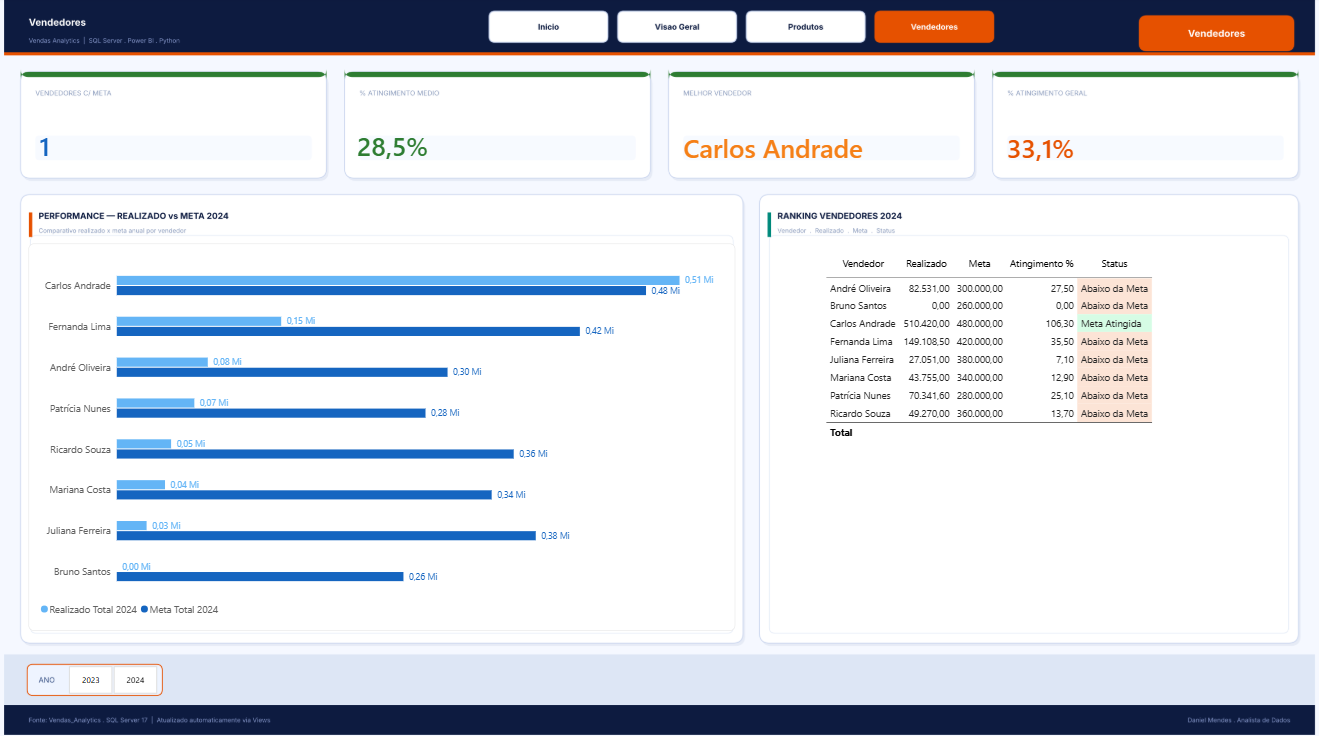

Layout of this report page (visuals, bound fields, positions):
{"tool":"powerbi","page":{"name":"Vendedores","canvas":[1920,1080],"ordinal":3},"visuals":[{"type":"actionButton","box":[714.9,22,169.4,41.8],"z":0},{"type":"actionButton","box":[899.7,22,169.4,41.8],"z":1000},{"type":"actionButton","box":[1084.5,22,169.4,41.8],"z":2000},{"type":"cardVisual","fields":{"Data":["_Medidas.Vendedores Meta Atingida"]},"box":[47.1,175.6,413.2,83.5],"z":3000},{"type":"cardVisual","fields":{"Data":["_Medidas.% Atingimento Médio"]},"box":[507.4,175.6,413.2,83.5],"z":4000},{"type":"cardVisual","fields":{"Data":["_Medidas.Melhor Vendedor"]},"box":[978.4,177.7,413.2,83.5],"z":5000},{"type":"cardVisual","fields":{"Data":["_Medidas.% Atingimento Geral"]},"box":[1447.3,177.7,413.2,83.5],"z":6000},{"type":"clusteredBarChart","fields":{"Category":["vw_performance_vendedores.nome"],"Y":["_Medidas.Realizado Total 2024","_Medidas.Meta Total 2024"]},"box":[46.2,358.6,1022.9,561],"z":7000},{"type":"tableEx","fields":{"Values":["vw_performance_vendedores.nome","vw_performance_vendedores.receita_realizada","vw_performance_vendedores.meta_anual","vw_performance_vendedores.atingimento_meta_pct","vw_performance_vendedores.status_meta"]},"box":[1185.7,358.6,613.8,561],"z":8000},{"type":"slicer","fields":{"Values":["vw_performance_vendedores.ano"]},"box":[85.8,967.9,167.2,44],"z":9000}]}

Visuals, with their boxes in screenshot pixels (x1, y1, x2, y2), scaled from the page's 1920x1080 canvas onto the 1319x736 screenshot:
actionButton: pyautogui.locateOnScreen(491, 15, 607, 43)
actionButton: pyautogui.locateOnScreen(618, 15, 734, 43)
actionButton: pyautogui.locateOnScreen(745, 15, 861, 43)
cardVisual - _Medidas.Vendedores Meta Atingida: pyautogui.locateOnScreen(32, 120, 316, 177)
cardVisual - _Medidas.% Atingimento Médio: pyautogui.locateOnScreen(349, 120, 632, 177)
cardVisual - _Medidas.Melhor Vendedor: pyautogui.locateOnScreen(672, 121, 956, 178)
cardVisual - _Medidas.% Atingimento Geral: pyautogui.locateOnScreen(994, 121, 1278, 178)
clusteredBarChart - vw_performance_vendedores.nome x _Medidas.Realizado Total 2024: pyautogui.locateOnScreen(32, 244, 734, 627)
tableEx - vw_performance_vendedores.nome x vw_performance_vendedores.receita_realizada: pyautogui.locateOnScreen(815, 244, 1236, 627)
slicer - vw_performance_vendedores.ano: pyautogui.locateOnScreen(59, 660, 174, 690)
